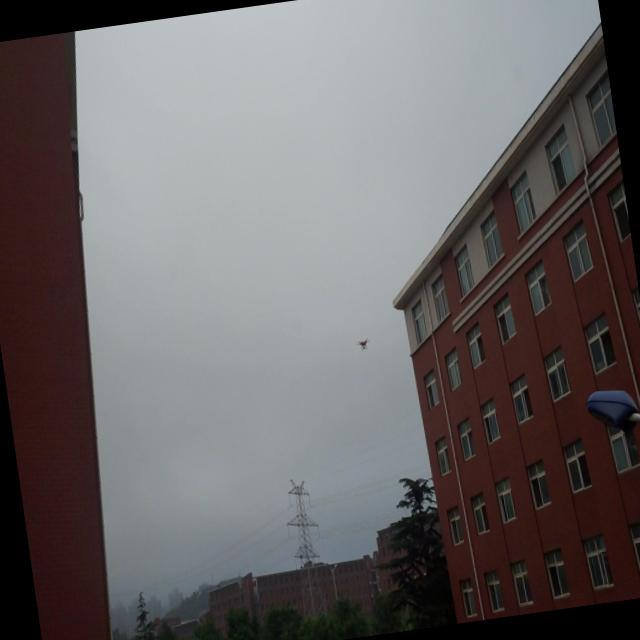drone: (354, 332, 373, 354)
